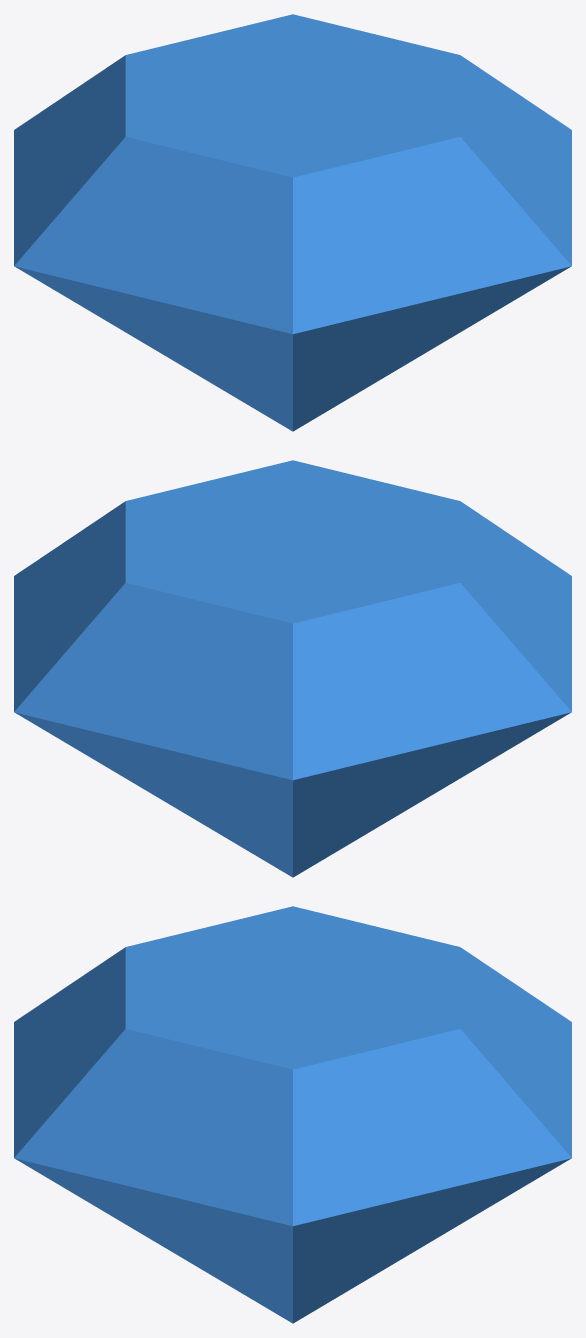
File: gem-1.fbx
3 renders of one model, top to bottom at view 1: azimuth 30°, elevation 25°; view 2: azimuth 150°, elevation 25°; view 3: azimuth 270°, elevation 25°, orthographic.
Visible parts, largest first — view 1: gem-1; view 2: gem-1; view 3: gem-1.
Boxes of the visible parts, x1,y1,x2,y2 form: gem-1: (14,14,571,431); gem-1: (14,460,571,877); gem-1: (14,906,571,1323).
Bounding box in the file's own units: 59.87 × 34.43 × 51.85.
